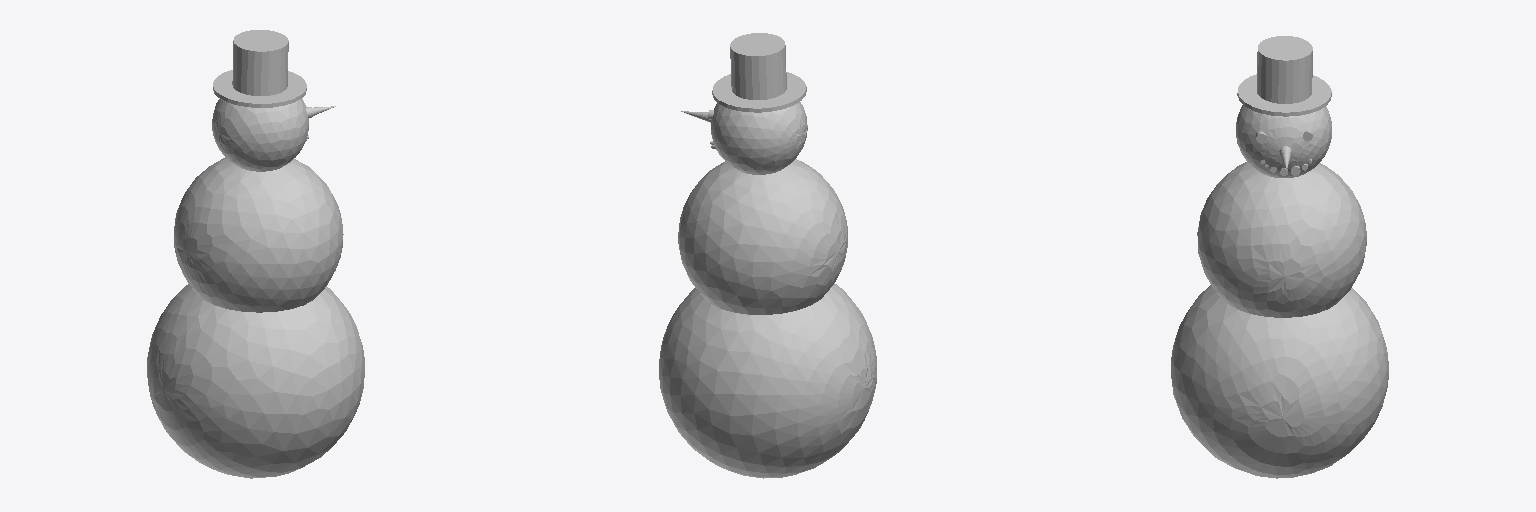
File: snowman.obj
3 views of the same model, side by side, from view 1: azimuth 30°, elevation 25°; view 2: azimuth 150°, elevation 25°; view 3: azimuth 270°, elevation 25° (orthographic).
Visible parts, largest first — view 1: Snowman; view 2: Snowman; view 3: Snowman.
Part boxes in pixels (bbox=[...]): Snowman: bbox=[147, 30, 364, 478]; Snowman: bbox=[659, 33, 876, 478]; Snowman: bbox=[1171, 36, 1388, 478].
Size of the model in its own units: 8.99 by 19.26 by 8.98.